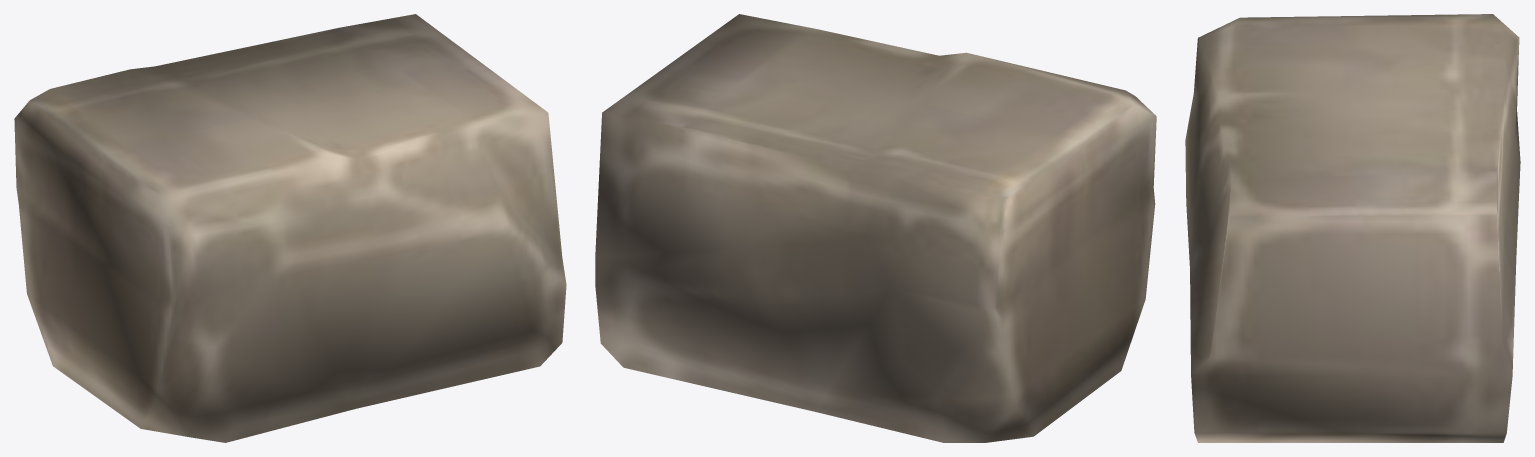
The model's file is tijolo1.glb.
3 views of the same model, side by side, from view 1: azimuth 30°, elevation 25°; view 2: azimuth 150°, elevation 25°; view 3: azimuth 270°, elevation 25° (orthographic). The views are drawn at different scales.
Visible parts, largest first — view 1: Prop_Brick1; view 2: Prop_Brick1; view 3: Prop_Brick1.
Part boxes in pixels (bbox=[...]): Prop_Brick1: bbox=[14, 14, 566, 442]; Prop_Brick1: bbox=[595, 14, 1156, 442]; Prop_Brick1: bbox=[1185, 14, 1520, 442].
Size of the model in its own units: 0.3456 by 0.208 by 0.2502.
Materials: 1 (1 with a texture image).
